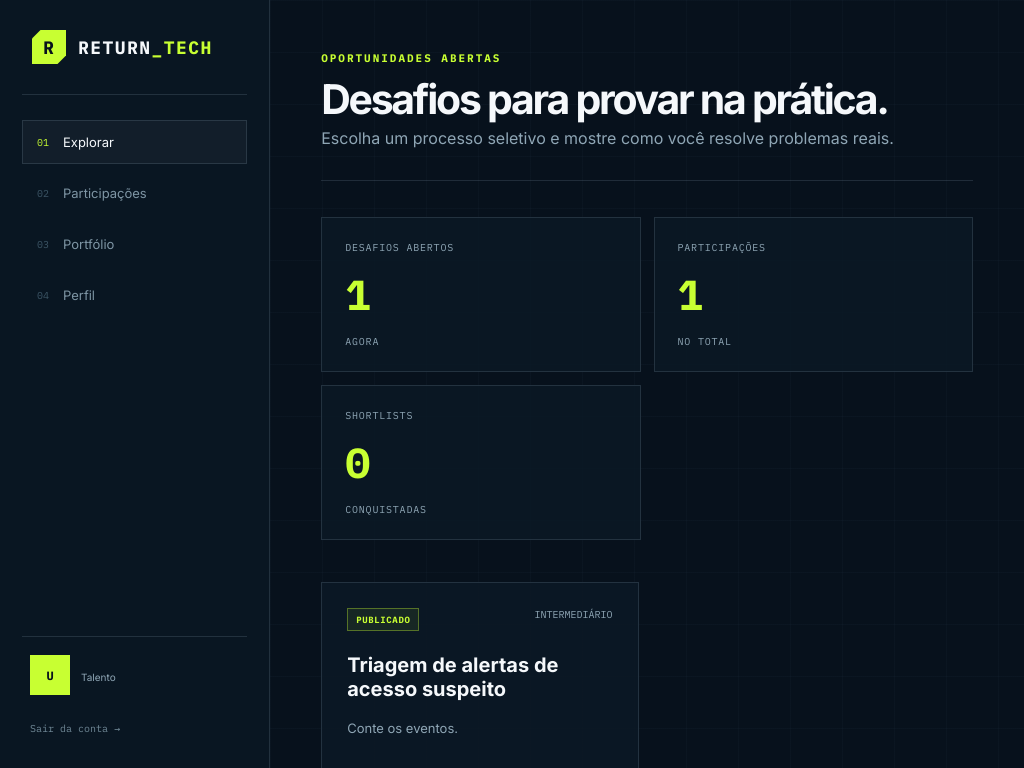
Test case: integration with existing project flows › imports saved legacy participation once and shows only the real challenge and portfolio entry
Expected: the heading "Triagem de alertas de acesso suspeito" is shown, top-left (347, 653), bottom-right (558, 701)
Click the button "03 Portfólio".
click(134, 244)  # box top-left (22, 222), bottom-right (247, 266)
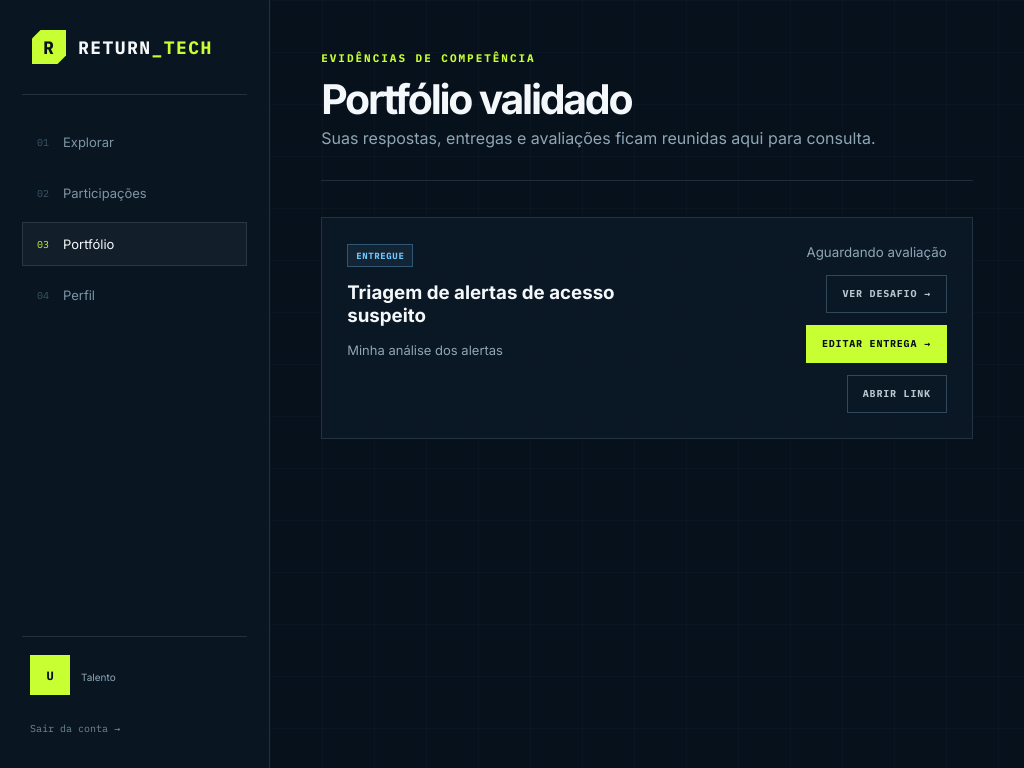
Expected: the text "Minha análise dos alertas" is shown, top-left (347, 342), bottom-right (503, 358)
Expected: the number of elements with class "submission" is 1, top-left (321, 217), bottom-right (973, 439)
Click the link "VER DESAFIO →".
click(887, 294)  # box top-left (826, 275), bottom-right (947, 313)
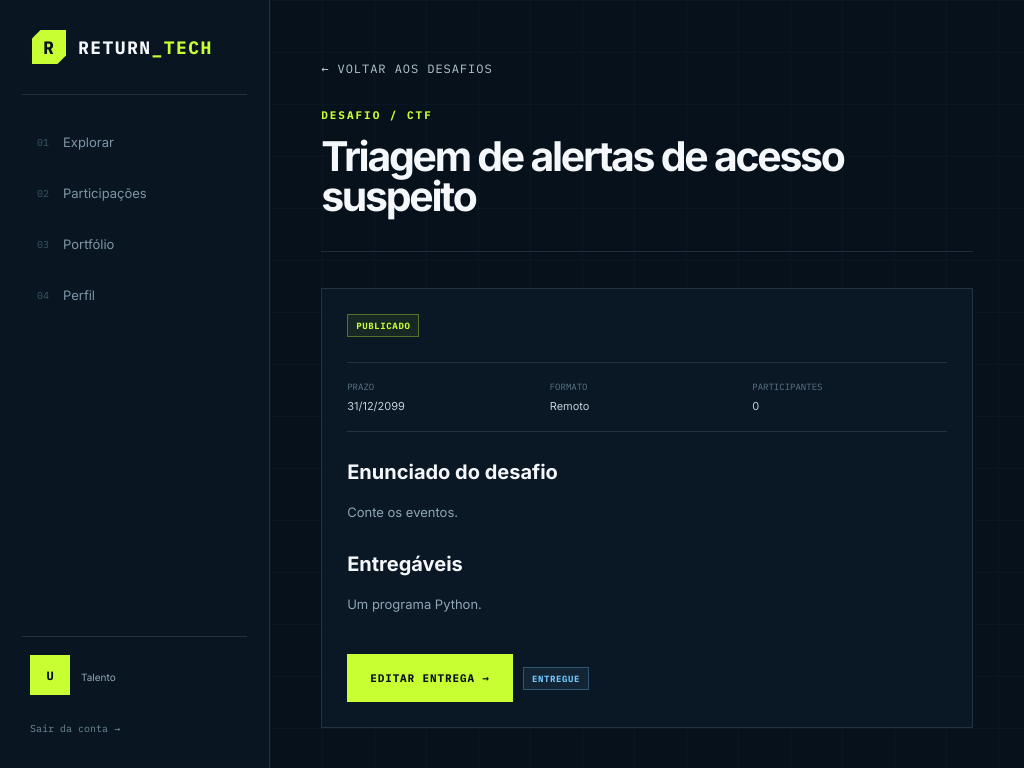
Click the button "EDITAR ENTREGA →".
click(430, 678)  # box top-left (347, 654), bottom-right (513, 702)
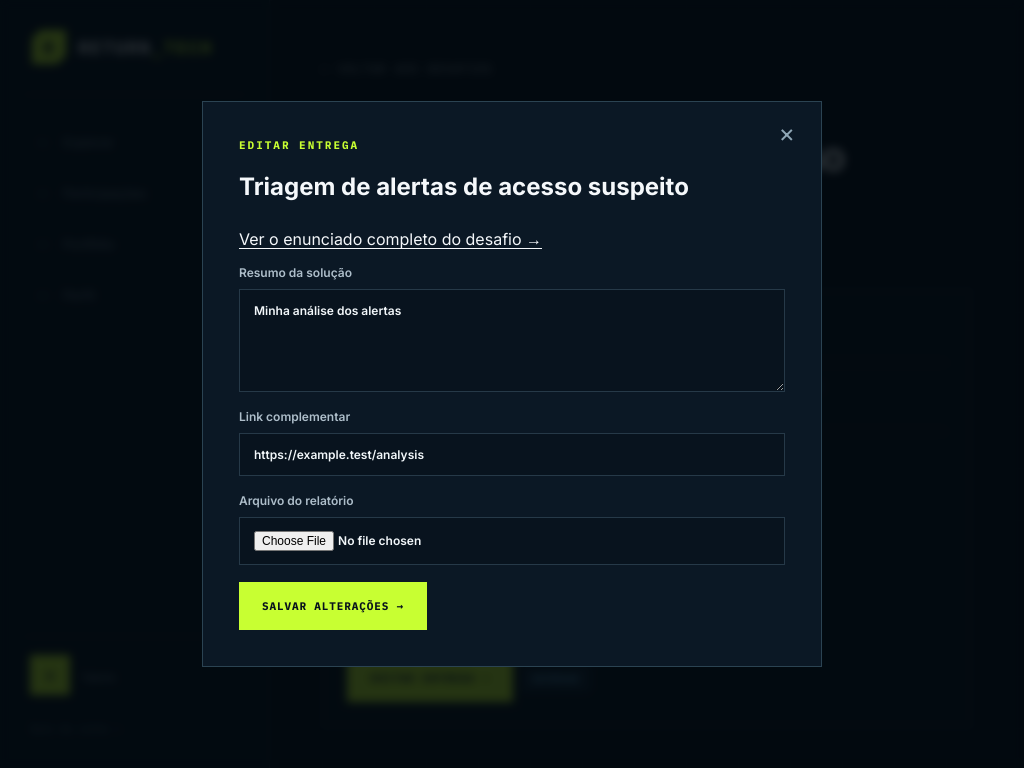
Expected: the text box labelled "Resumo da solução" holds "Minha análise dos alertas", top-left (239, 289), bottom-right (785, 392)
Expected: the file field labelled "Arquivo do relatório" is shown, top-left (239, 517), bottom-right (785, 565)
